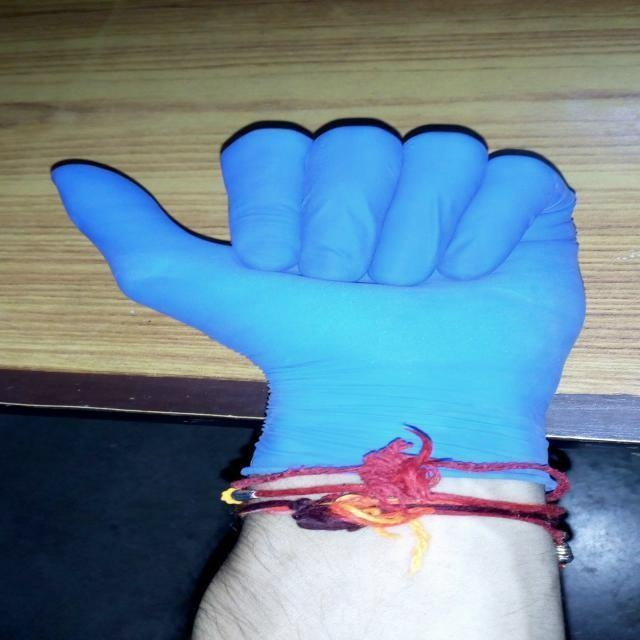Guantes: (53, 122, 568, 492)
